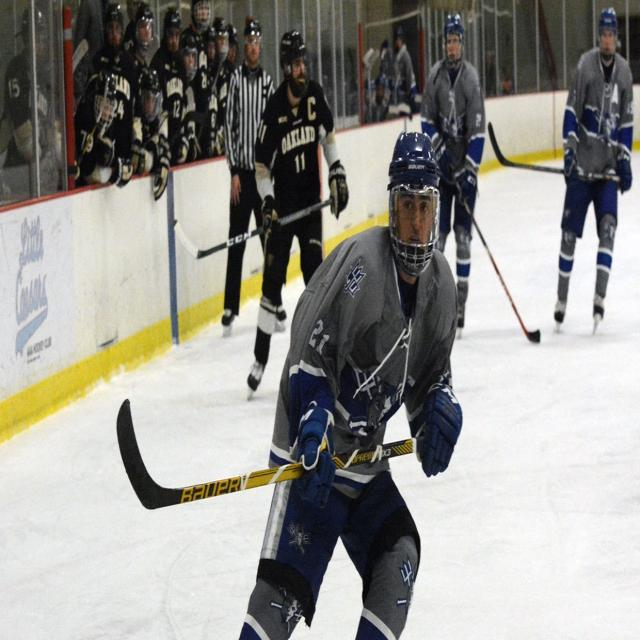body: (235, 124, 463, 638), (245, 24, 349, 402), (551, 4, 636, 345), (419, 9, 489, 347), (218, 16, 287, 342), (7, 0, 74, 199), (321, 15, 416, 122), (87, 0, 134, 183), (74, 64, 135, 190), (147, 4, 192, 169), (128, 65, 172, 204), (120, 1, 166, 115), (168, 26, 204, 167), (180, 0, 214, 109), (73, 0, 105, 68), (483, 40, 517, 95), (211, 14, 230, 61), (225, 18, 241, 65), (124, 0, 138, 46), (203, 34, 217, 62)
